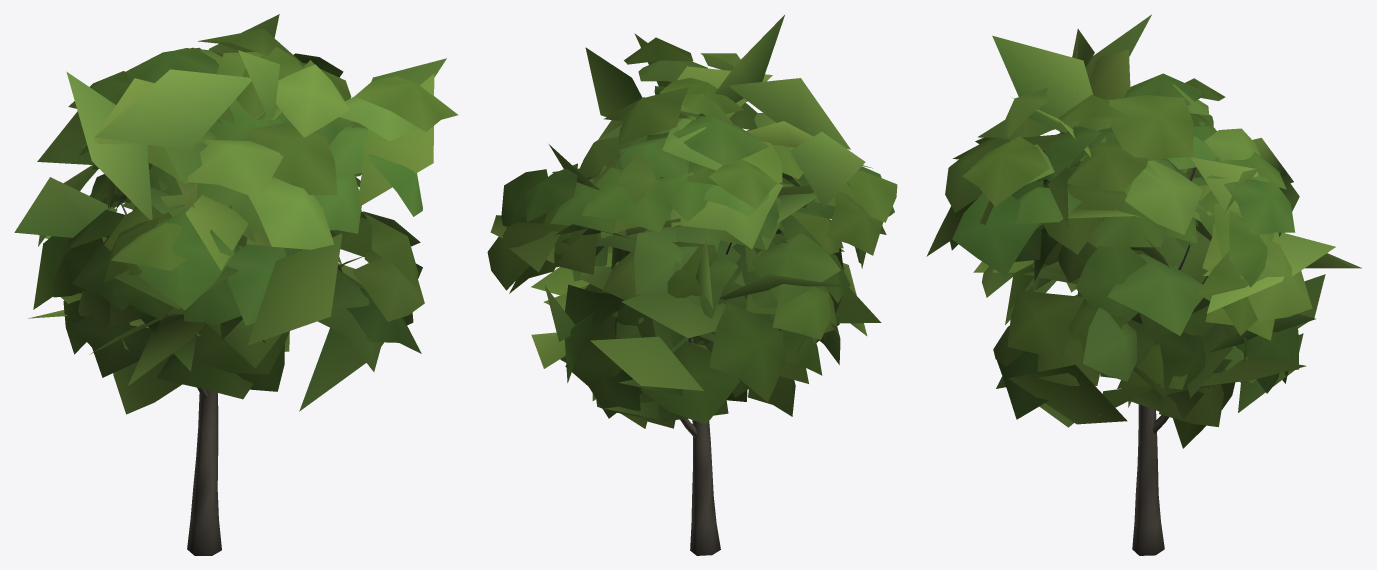
Rendered from lime-c.lod1.glb.
3 renders of one model, left to right at view 1: azimuth 30°, elevation 25°; view 2: azimuth 150°, elevation 25°; view 3: azimuth 270°, elevation 25°, orthographic. The views are drawn at different scales.
Size of the model in its own units: 11.06 by 15.05 by 11.65.
